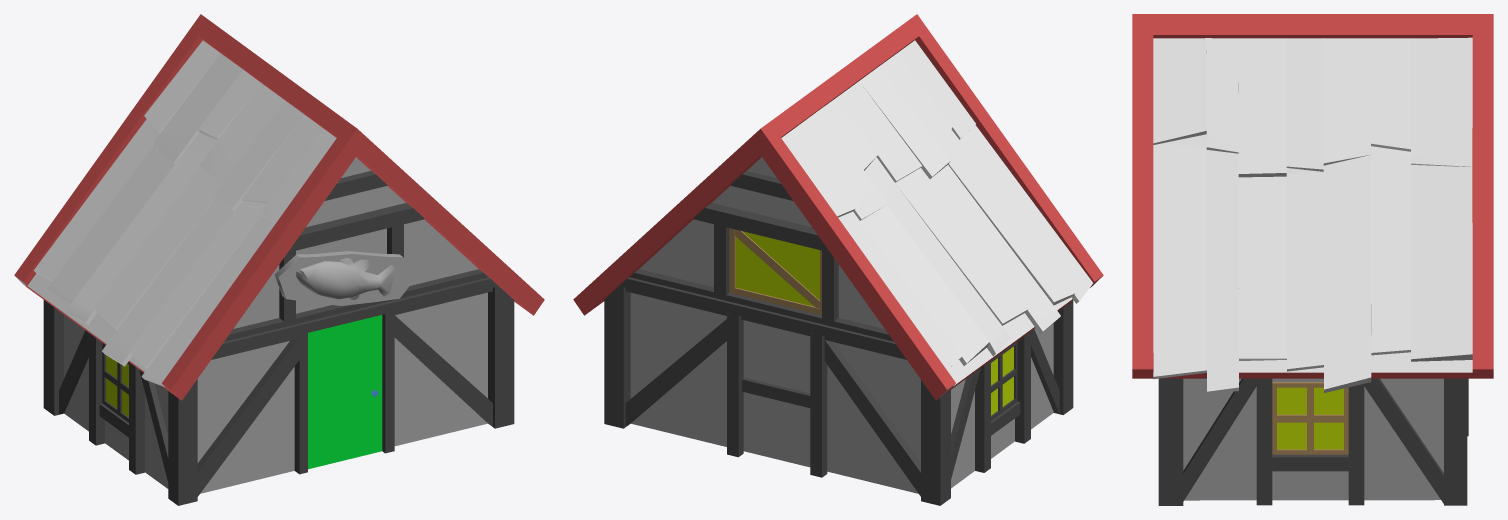
Rendered from Harbor_House_1.fbx.
3 views of the same model, side by side, from view 1: azimuth 30°, elevation 25°; view 2: azimuth 150°, elevation 25°; view 3: azimuth 270°, elevation 25° (orthographic). The views are drawn at different scales.
Parts seen in each view (by area): view 1: Harbor_House_1, Harbor_House_1_Fish; view 2: Harbor_House_1; view 3: Harbor_House_1.
Boxes of the visible parts, x1,y1,x2,y2 form: Harbor_House_1: (14, 14, 544, 505); Harbor_House_1_Fish: (274, 251, 416, 305); Harbor_House_1: (573, 14, 1103, 505); Harbor_House_1: (1132, 14, 1493, 505).
Size of the model in its own units: 669 by 566 by 466.
